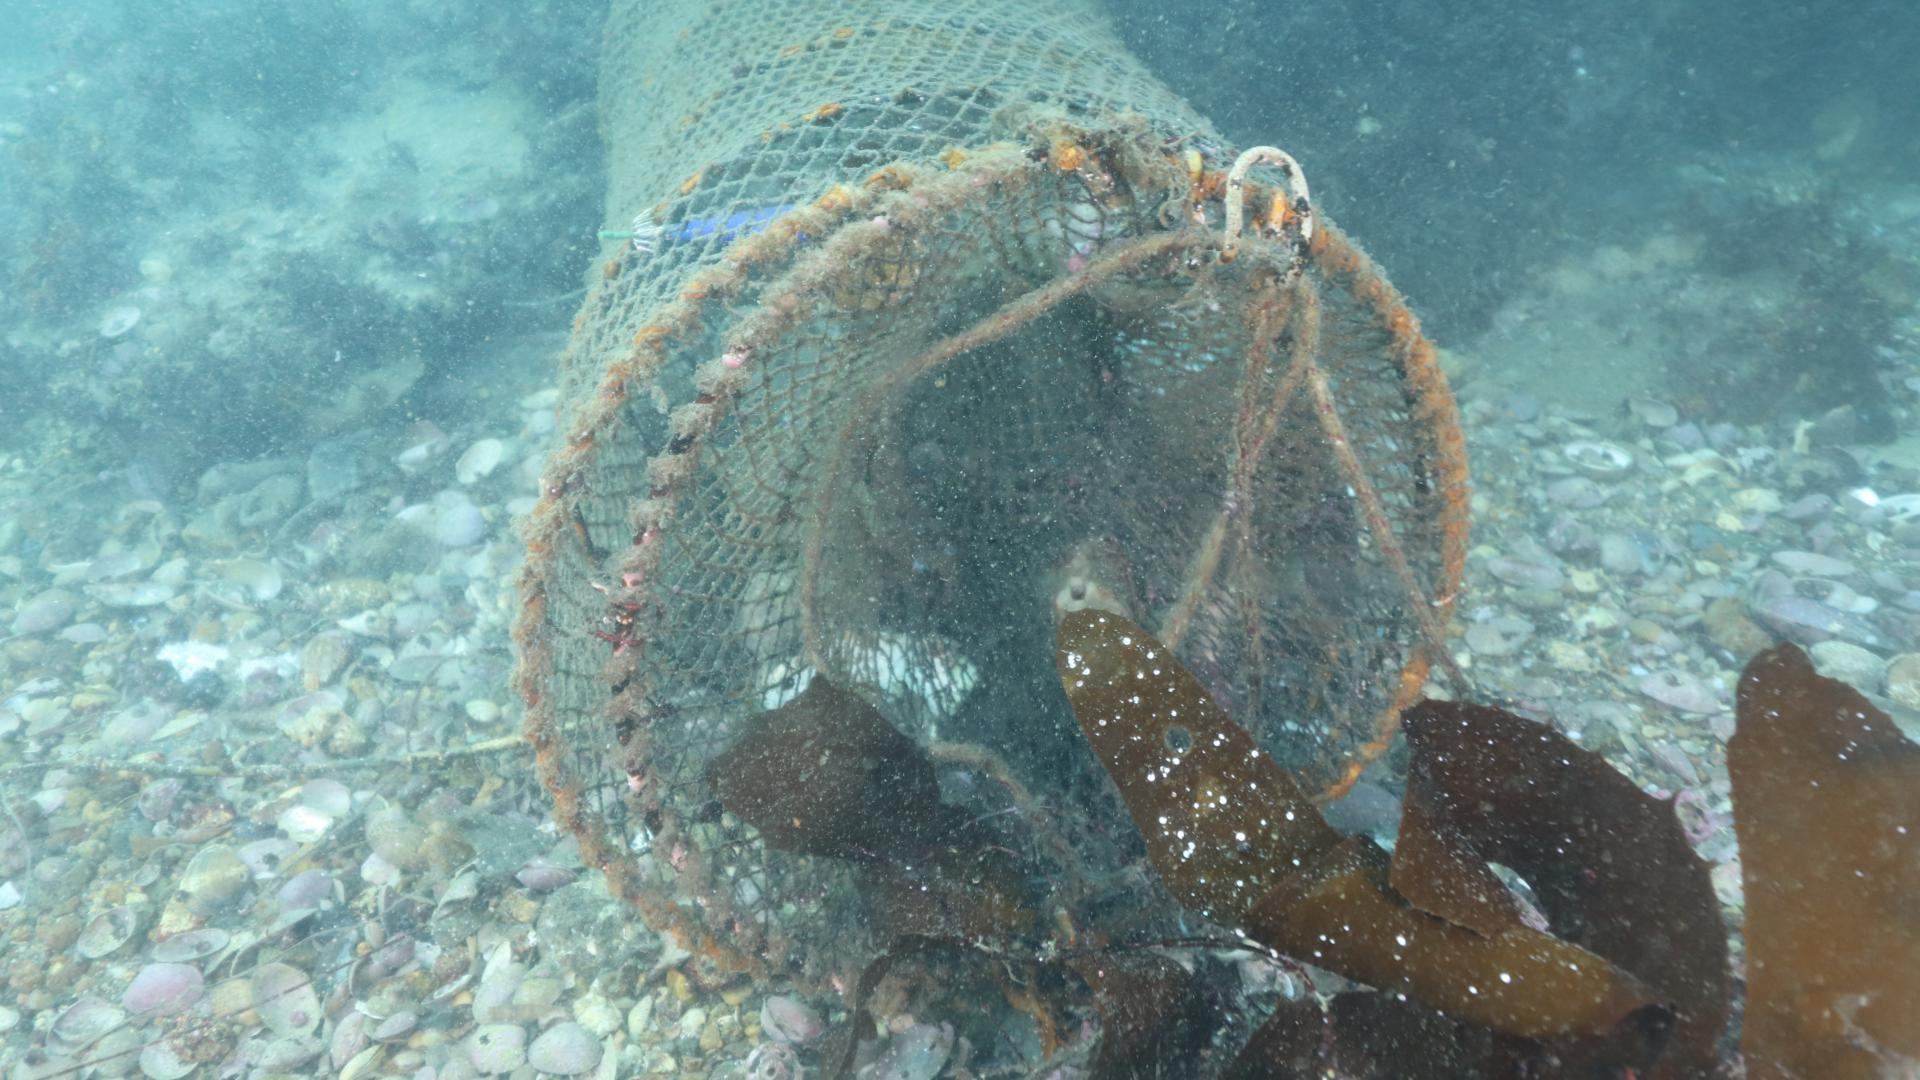spring fish trap: (508, 0, 1472, 1015)
